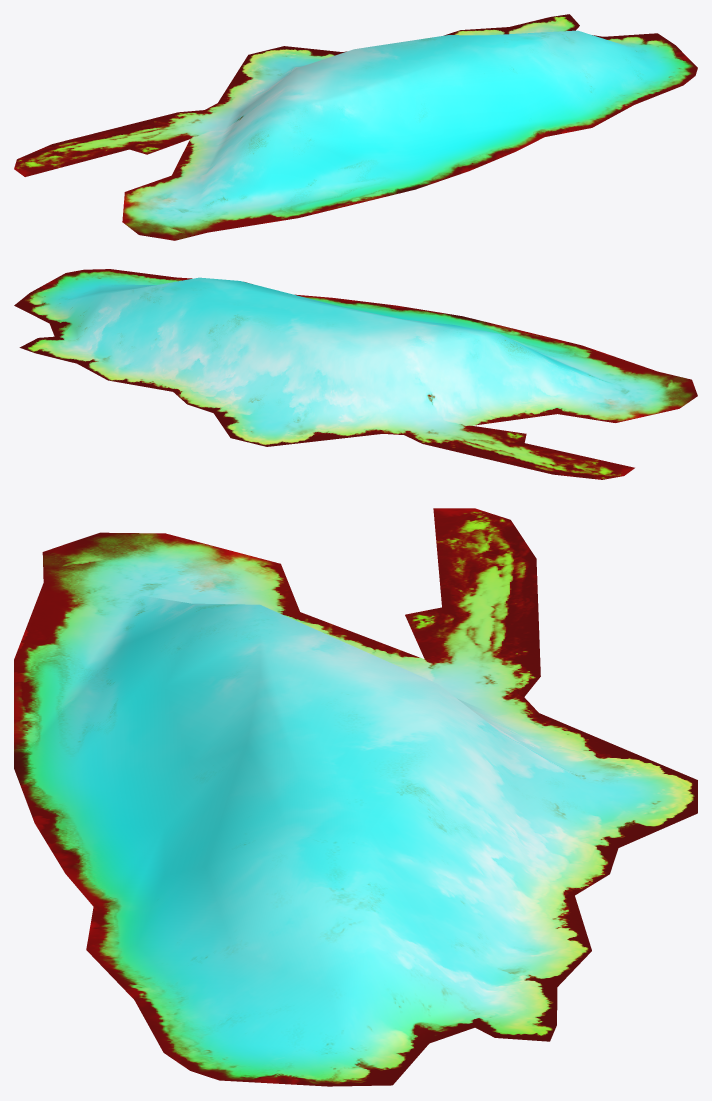
File: Mesh_QuantumMetaCloud_3.FBX
3 renders of one model, top to bottom at view 1: azimuth 30°, elevation 25°; view 2: azimuth 150°, elevation 25°; view 3: azimuth 270°, elevation 25°, orthographic. The views are drawn at different scales.
Visible parts, largest first — view 1: Mesh_QuantumMetaCloud_3; view 2: Mesh_QuantumMetaCloud_3; view 3: Mesh_QuantumMetaCloud_3.
Part boxes in pixels (bbox=[...]): Mesh_QuantumMetaCloud_3: bbox=[14, 14, 697, 240]; Mesh_QuantumMetaCloud_3: bbox=[14, 269, 697, 479]; Mesh_QuantumMetaCloud_3: bbox=[14, 508, 697, 1086].
Bounding box in the file's own units: 1000 × 500 × 73.15.
